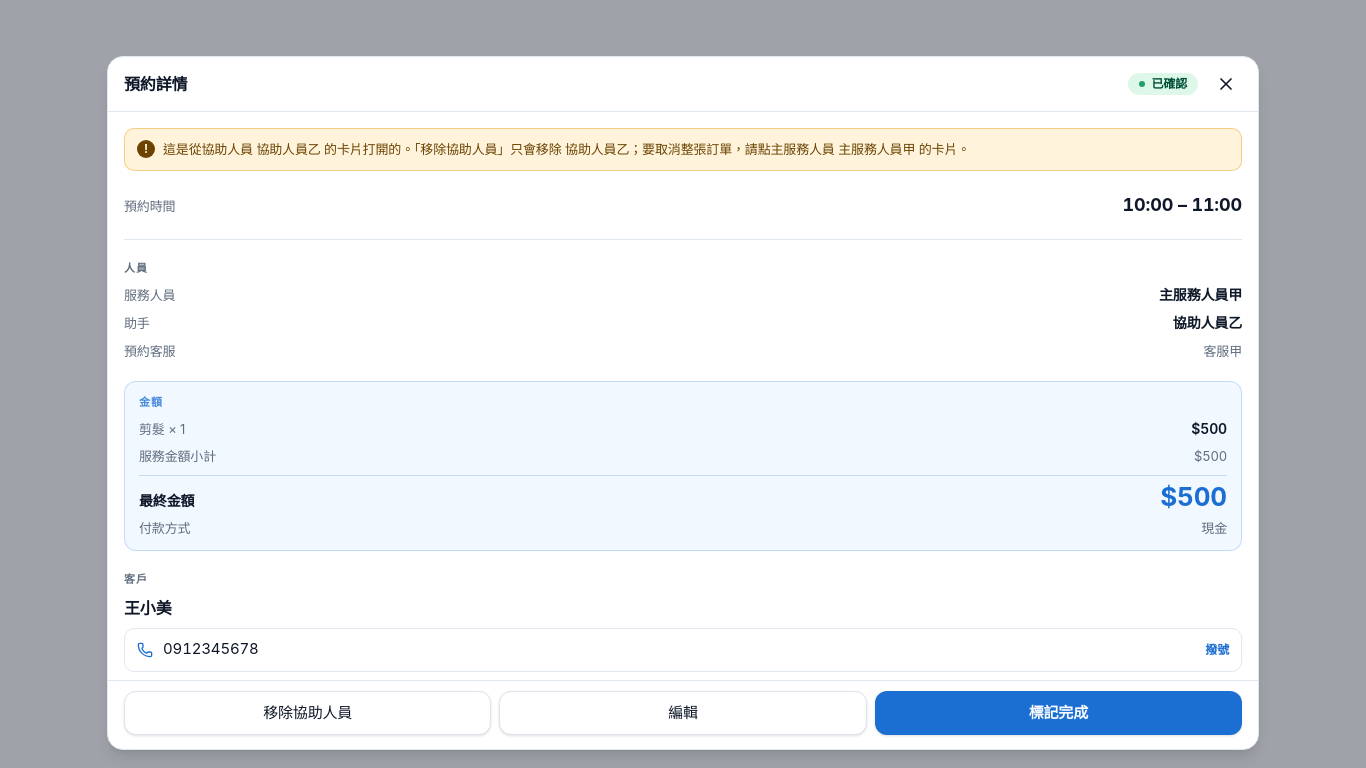
Test: 預約詳情:從「(協助)」色塊打開 › 確定移除 → 只呼叫 removeBookingAssistant(這張單 + 這位),不呼叫 cancelBooking;詳情關掉、跳二選一
This screenshot has width=1366, height=768.
Click the button "移除協助人員": {"x": 308, "y": 713} left=124, top=691, right=491, bottom=735
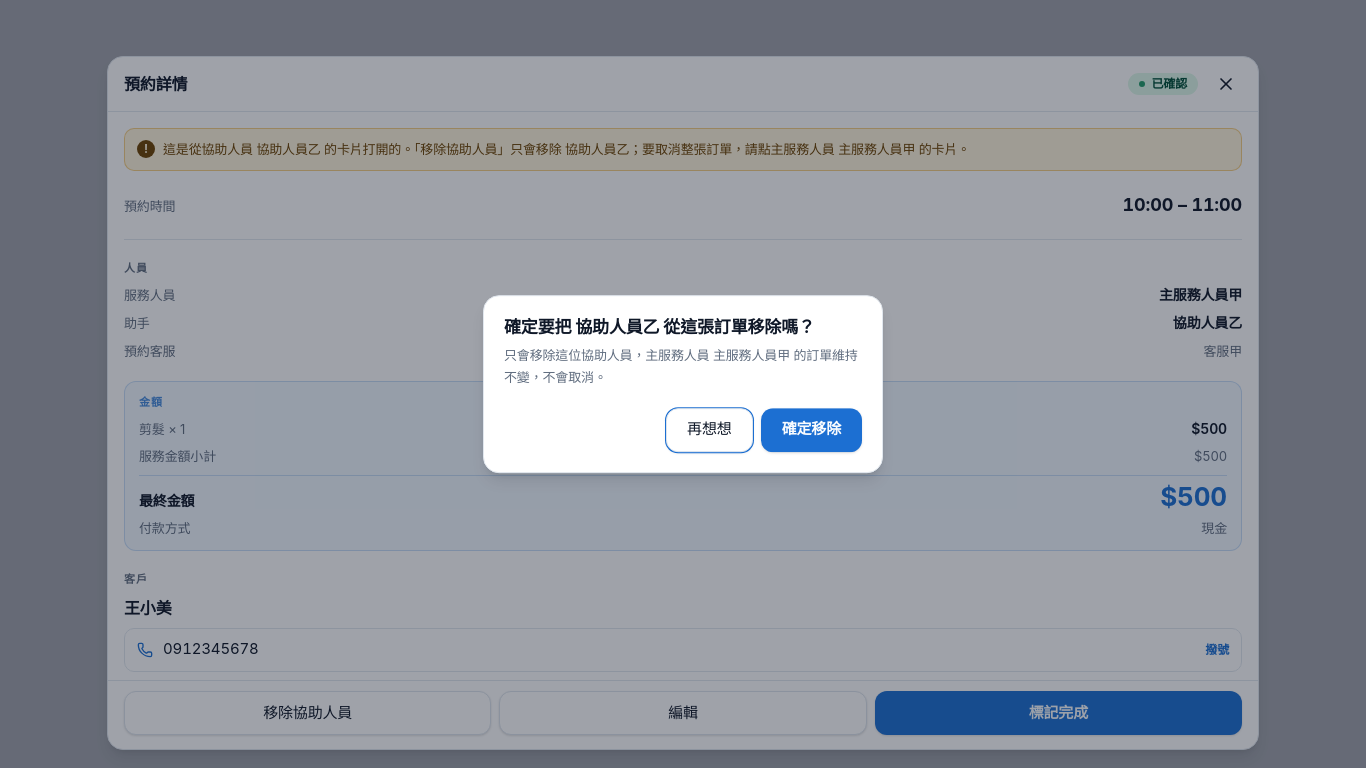
Now the heading "確定要把 協助人員乙 從這張訂單移除嗎？" is shown, box left=504, top=316, right=862, bottom=340
Click the button "確定移除": {"x": 811, "y": 430} left=761, top=408, right=862, bottom=452
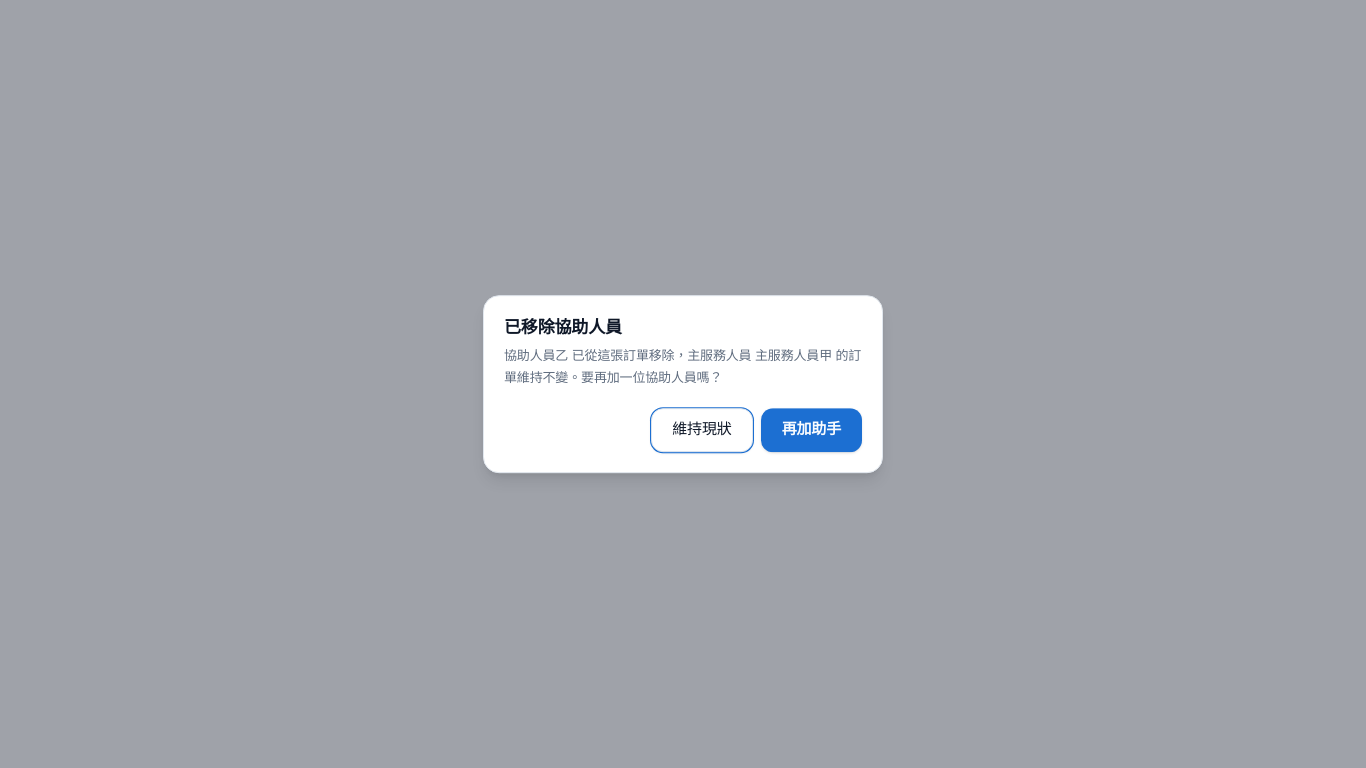
Now the text "協助人員乙 已從這張訂單移除，主服務人員 主服務人員甲 的訂單維持不變。要再加一位協助人員嗎？" is shown, box left=504, top=346, right=862, bottom=388
Now the heading "預約詳情" is gone
